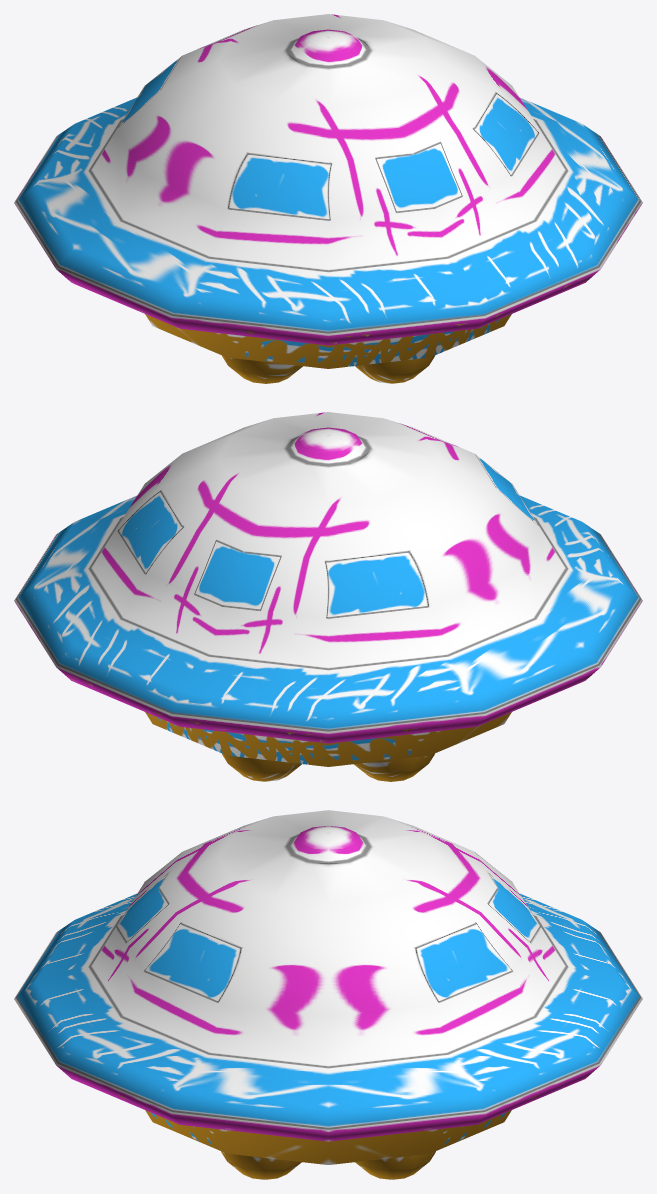
The model's file is feichuan_I.FBX.
3 views of the same model, one above another, from view 1: azimuth 30°, elevation 25°; view 2: azimuth 150°, elevation 25°; view 3: azimuth 270°, elevation 25° (orthographic).
Parts seen in each view (by area): view 1: feichuan_I; view 2: feichuan_I; view 3: feichuan_I.
Part boxes in pixels (x1=…): feichuan_I: x1=14, y1=14, x2=642, y2=383; feichuan_I: x1=14, y1=412, x2=642, y2=781; feichuan_I: x1=14, y1=810, x2=642, y2=1179.
Bounding box in the file's own units: 205 × 106 × 205.
Materials: 1 (1 with a texture image).
